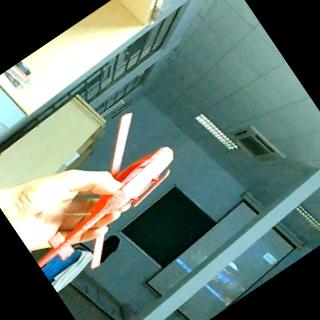Helicopter: (20, 140, 191, 275)
